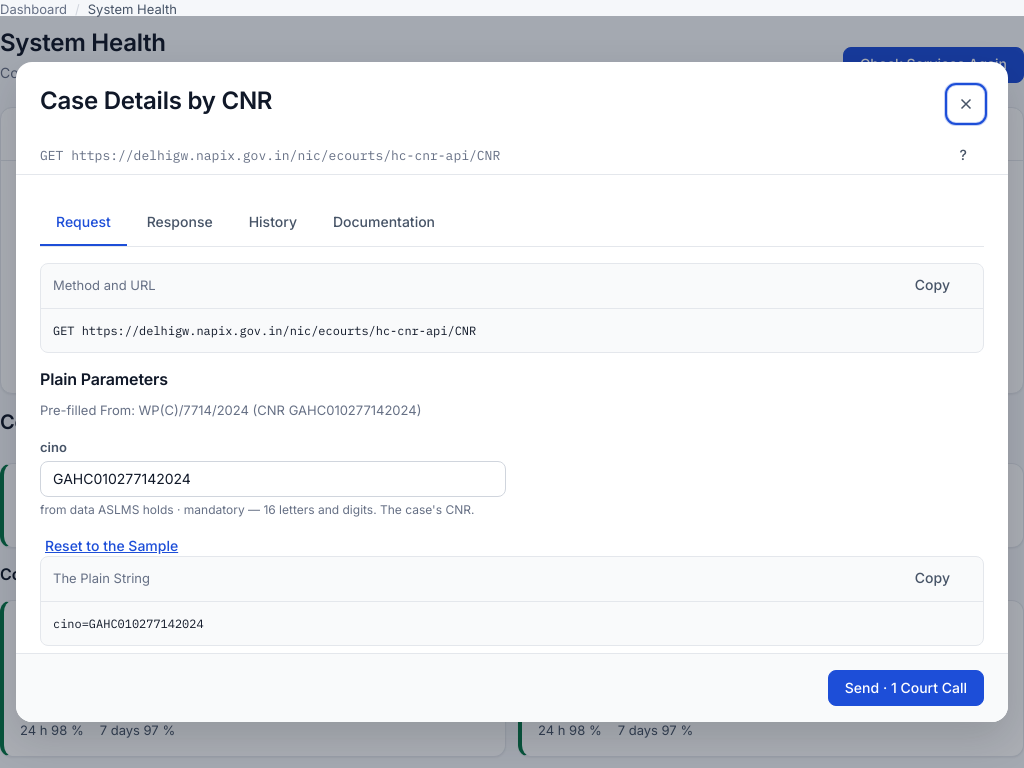
Test case: the Request tab › a 429 on Send shows the wait
Expected: the field labelled "cino" is shown, 40,461 -> 506,497
What coordinates should you click on to do the following:
click the button "Send · 1 Court Call"
I would click on:
 (906, 688)
Its box is 828,670 -> 984,706.
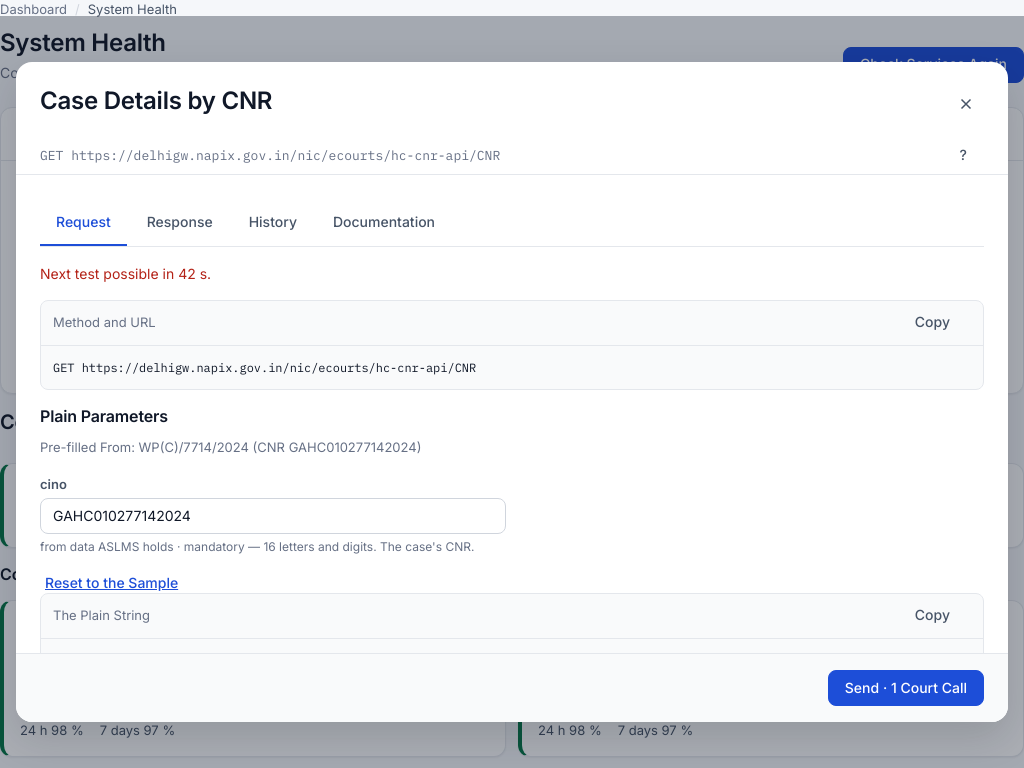
Expected: the message reads "Next test possible in 42 s.", 40,265 -> 211,282
